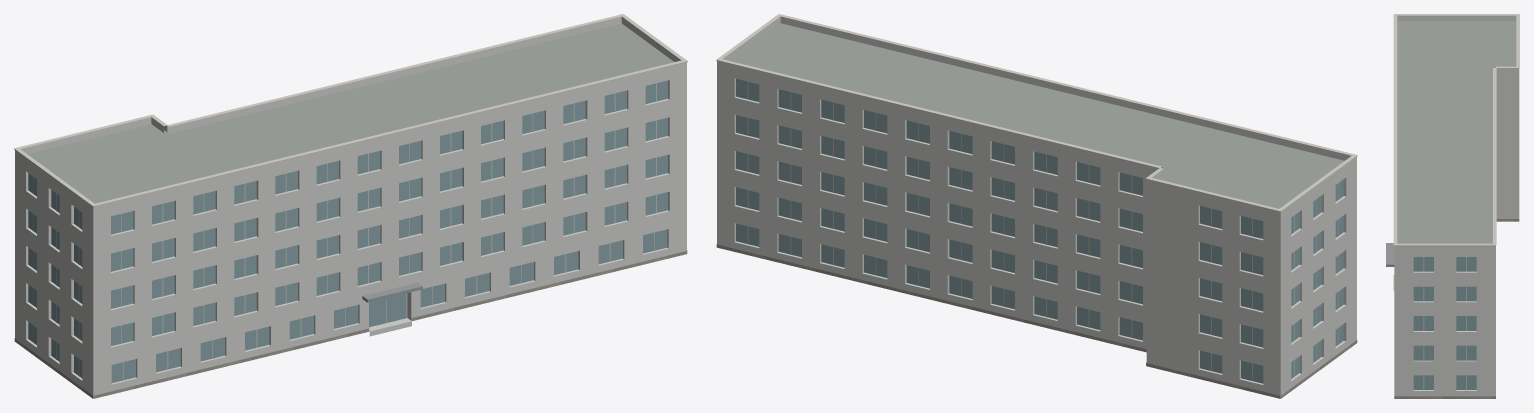
The picture shows the model from 3 angles, left to right: view 1: azimuth 30°, elevation 25°; view 2: azimuth 150°, elevation 25°; view 3: azimuth 270°, elevation 25°; orthographic projection. The views are drawn at different scales.
Parts seen in each view (by area): view 1: cheongun2__wall, cheongun2__glass, cheongun2__roof, cheongun2__parapet, cheongun2__trim, cheongun2__base, cheongun2__frame; view 2: cheongun2__wall, cheongun2__roof, cheongun2__glass, cheongun2__parapet, cheongun2__trim, cheongun2__base, cheongun2__frame; view 3: cheongun2__roof, cheongun2__wall, cheongun2__glass, cheongun2__trim, cheongun2__parapet, cheongun2__base, cheongun2__frame, cheongun2__canopy.
Part boxes in pixels (x1,y1,x2,y2): cheongun2__wall: (15, 68, 686, 398); cheongun2__glass: (28, 80, 667, 382); cheongun2__roof: (27, 23, 674, 203); cheongun2__parapet: (15, 16, 686, 212); cheongun2__trim: (14, 14, 687, 207); cheongun2__base: (14, 250, 687, 398); cheongun2__frame: (33, 83, 656, 380); cheongun2__wall: (717, 66, 1356, 398); cheongun2__roof: (729, 23, 1344, 208); cheongun2__glass: (736, 79, 1343, 383); cheongun2__parapet: (717, 16, 1356, 217); cheongun2__trim: (716, 14, 1357, 212); cheongun2__base: (716, 244, 1357, 398); cheongun2__frame: (747, 81, 1338, 381); cheongun2__roof: (1397, 21, 1516, 243); cheongun2__wall: (1394, 73, 1519, 396); cheongun2__glass: (1413, 257, 1476, 389); cheongun2__trim: (1393, 14, 1519, 246); cheongun2__parapet: (1394, 15, 1519, 250); cheongun2__base: (1394, 219, 1519, 398); cheongun2__frame: (1423, 257, 1466, 390); cheongun2__canopy: (1386, 243, 1394, 266).
Bounding box in the file's own units: 53.59 × 17 × 13.1.
10 materials, 1 textured.
